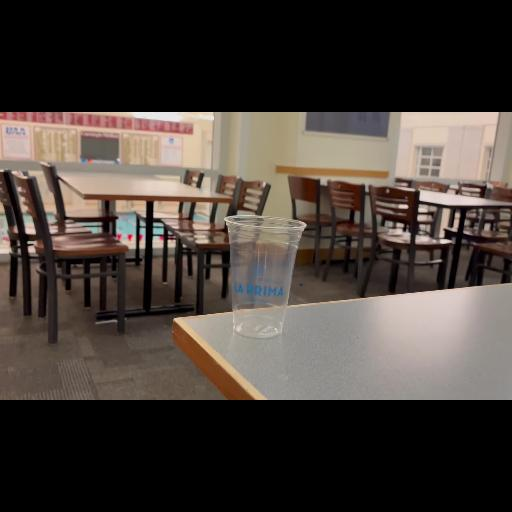lp_plastic_cup: (222, 209, 312, 353)
